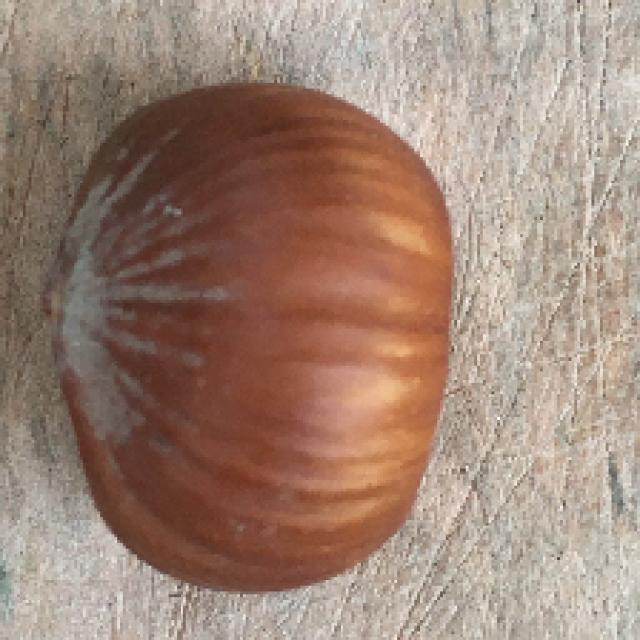qualityHazelnut: (45, 72, 461, 593)
